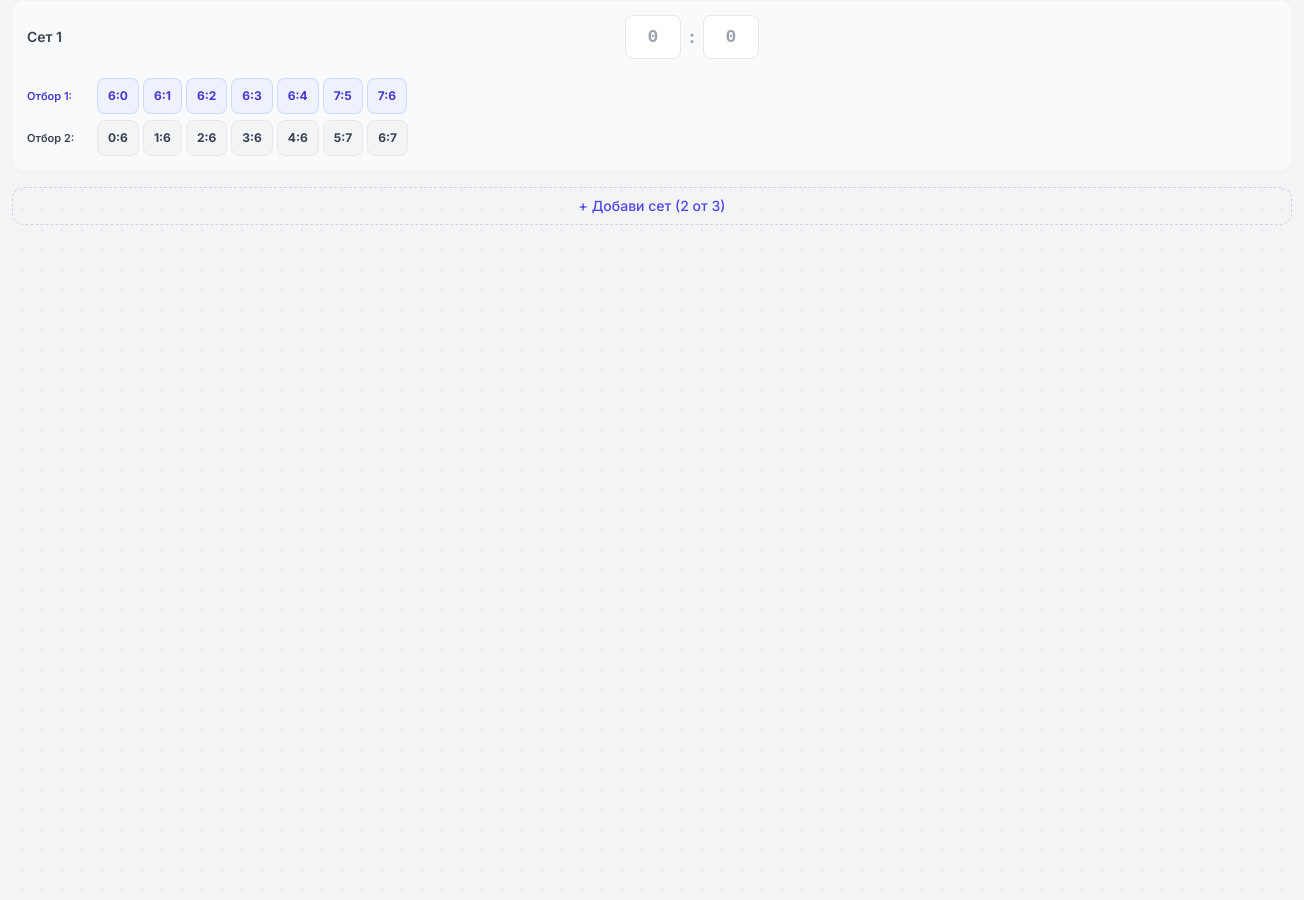
Test: TennisScoreEditor Component › displays live inline error badge when set score is invalid (6:5)
The width and height of the screenshot is (1304, 900).
In the field named "Сет 1 Отбор 1": (653, 37) [625,15,681,59], type "6"
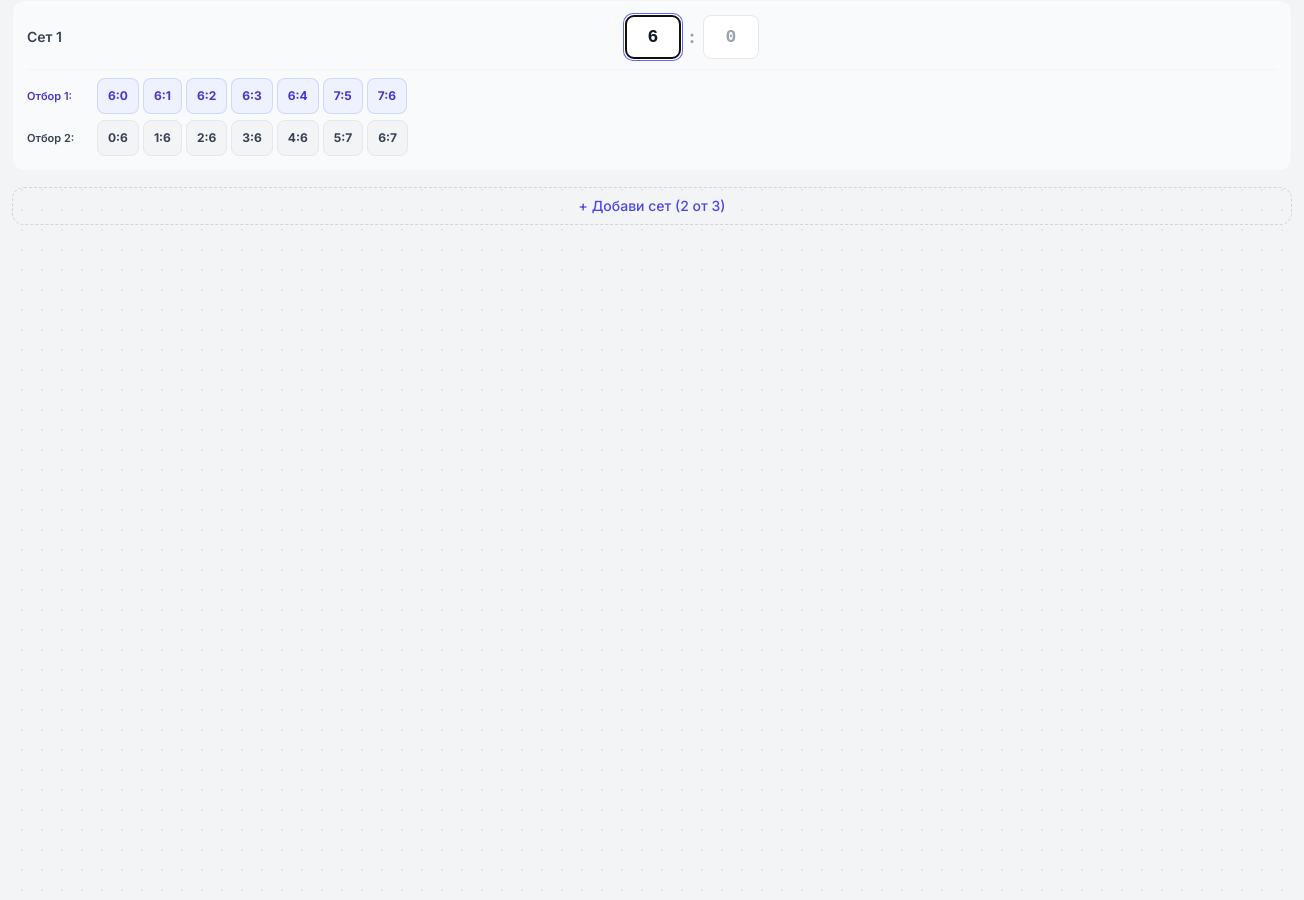
In the field named "Сет 1 Отбор 2": (731, 37) [703,15,759,59], type "5"
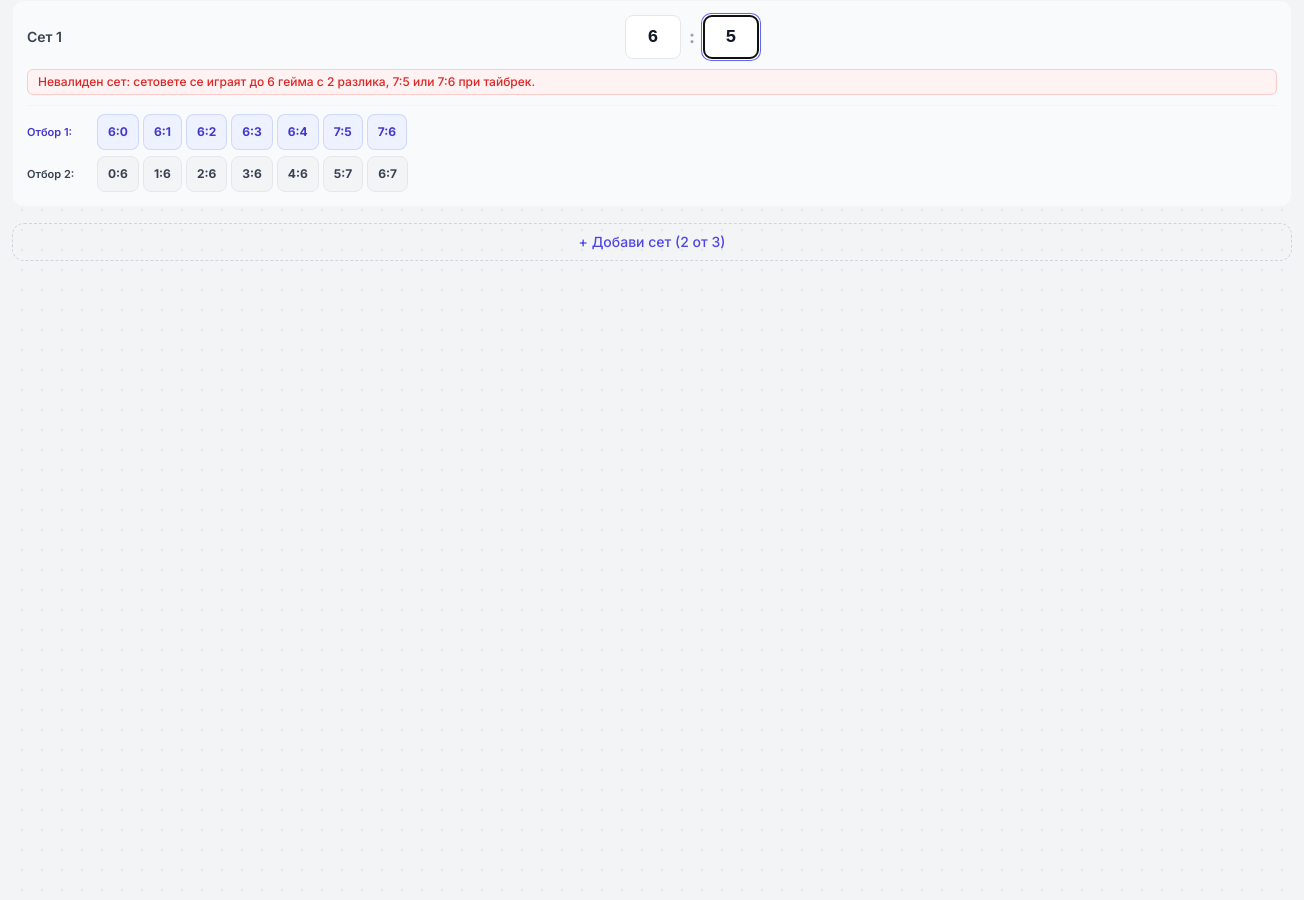
Expected: the text "Невалиден сет: сетовете се играят до 6 гейма с 2 разлика, 7:5 или 7:6 при тайбрек." is shown, [38,74,535,89]
